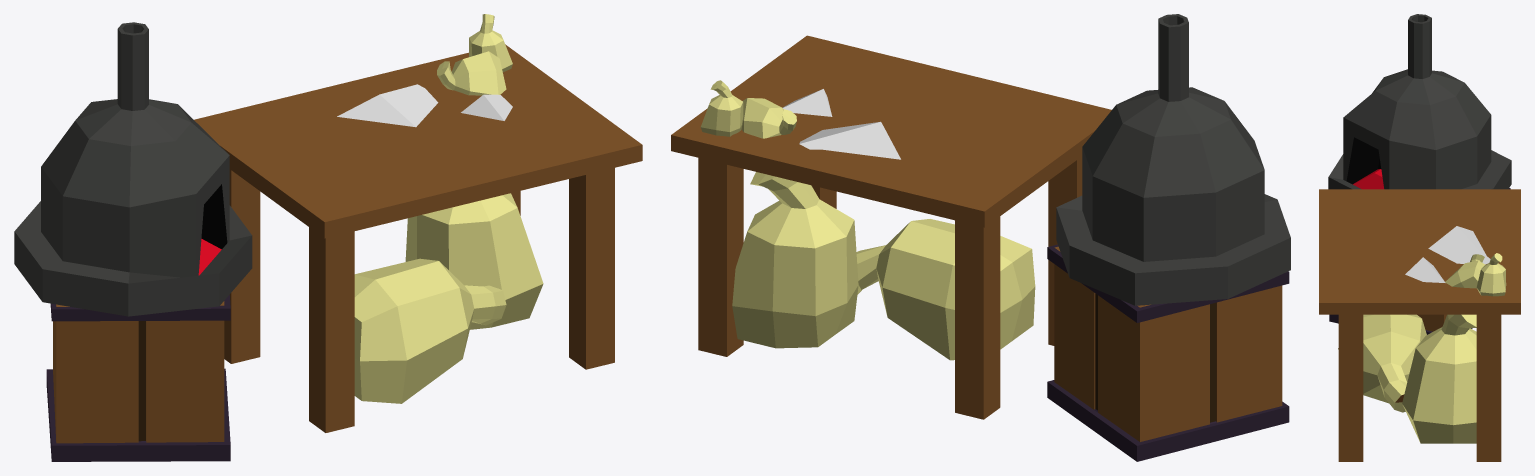
The model's file is Bakery.fbx.
3 renders of one model, left to right at view 1: azimuth 30°, elevation 25°; view 2: azimuth 150°, elevation 25°; view 3: azimuth 270°, elevation 25°, orthographic. The views are drawn at different scales.
Visible parts, largest first — view 1: Bakery1, Bakery, Bakery3, Bakery2; view 2: Bakery1, Bakery, Bakery3, Bakery2; view 3: Bakery, Bakery1, Bakery3, Bakery2.
Part boxes in pixels (x1,y1,x2,y2): Bakery1: (14, 22, 252, 461); Bakery: (194, 44, 642, 432); Bakery3: (354, 193, 543, 403); Bakery2: (337, 14, 512, 127); Bakery1: (1047, 14, 1290, 461); Bakery: (671, 35, 1111, 419); Bakery3: (732, 172, 1035, 360); Bakery2: (700, 80, 900, 159); Bakery: (1319, 189, 1520, 461); Bakery1: (1328, 14, 1511, 334); Bakery3: (1338, 314, 1476, 443); Bakery2: (1405, 226, 1506, 296).
Size of the model in its own units: 748 by 534 by 328.
